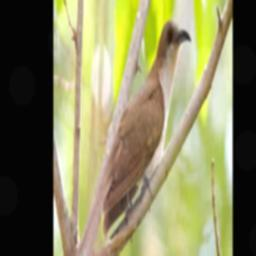Cuckoo: (103, 17, 194, 245)
